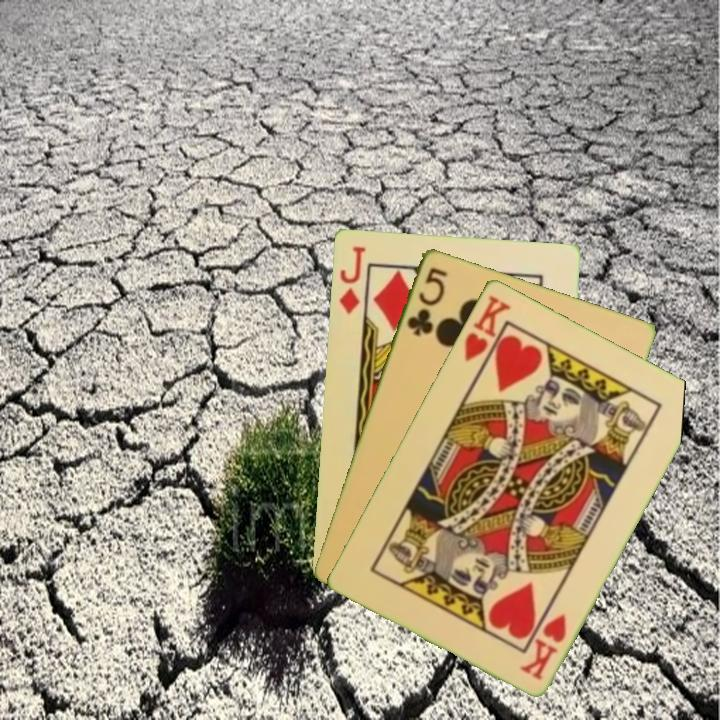5c: (403, 263, 450, 339)
Jd: (335, 242, 368, 317)
Kh: (460, 291, 514, 375), (516, 609, 570, 683)
